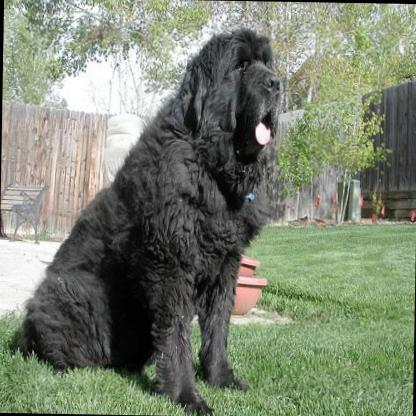Newfoundland: (6, 22, 281, 415)
